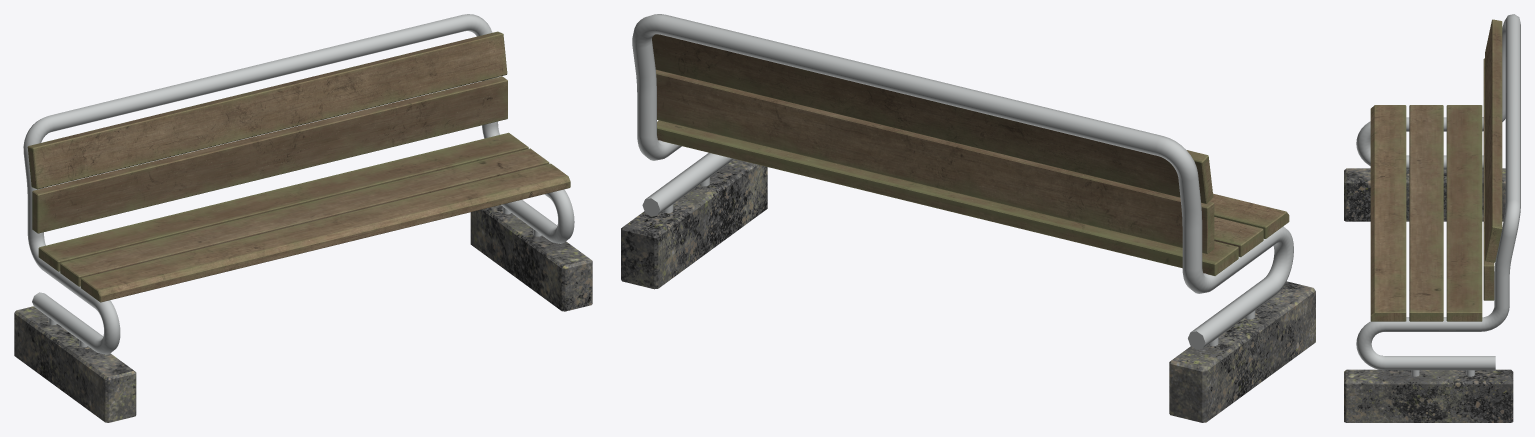
The model's file is obj_city_bench_973507.glb.
3 renders of one model, left to right at view 1: azimuth 30°, elevation 25°; view 2: azimuth 150°, elevation 25°; view 3: azimuth 270°, elevation 25°, orthographic. The views are drawn at different scales.
Visible parts, largest first — view 1: obj_city_bench_973507; view 2: obj_city_bench_973507; view 3: obj_city_bench_973507.
Boxes of the visible parts, x1=… form: obj_city_bench_973507: x1=14, y1=14, x2=592, y2=422; obj_city_bench_973507: x1=621, y1=14, x2=1315, y2=422; obj_city_bench_973507: x1=1344, y1=14, x2=1520, y2=422.
Bounding box in the file's own units: 1.2 × 0.5405 × 0.4171.
Materials: 1 (1 with a texture image).
